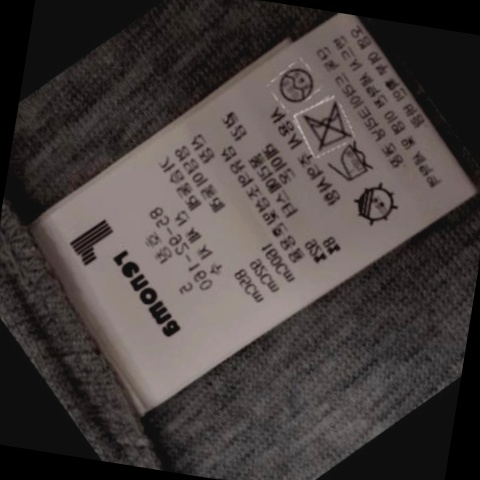DN_wash: (295, 100, 354, 152)
dry_clean_petrol_only: (272, 61, 318, 106)
iron_low: (326, 141, 378, 188)
line_dry_in_shade: (344, 180, 401, 229)
